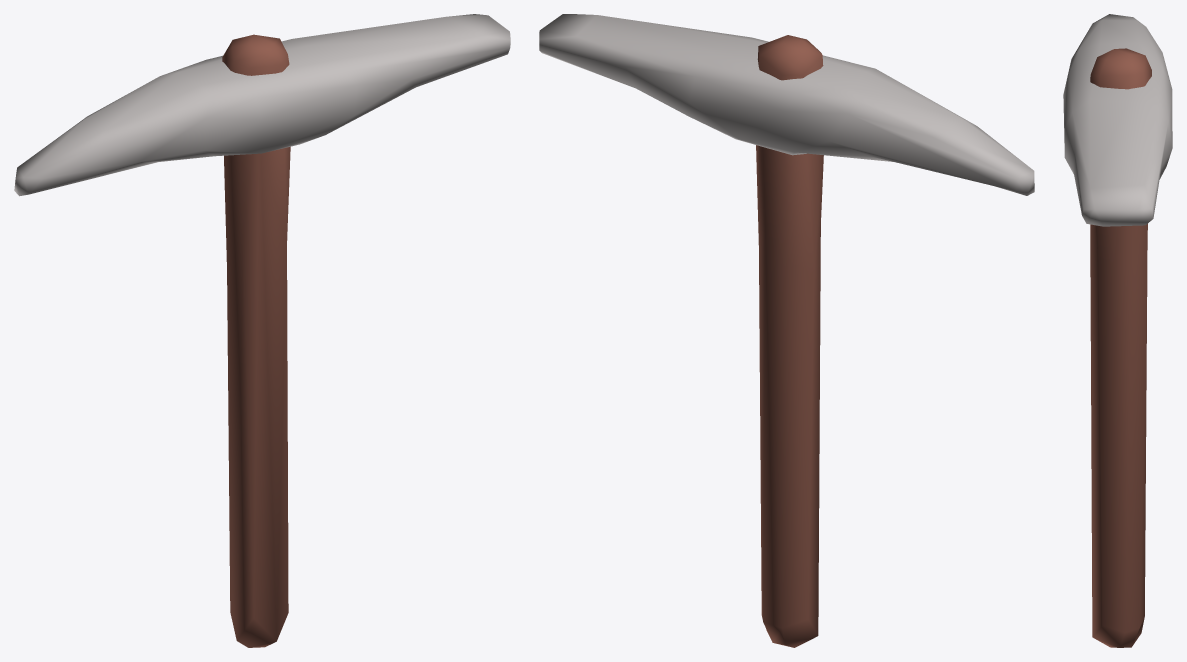
The model's file is pickaxe.fbx.
The picture shows the model from 3 angles, left to right: view 1: azimuth 30°, elevation 25°; view 2: azimuth 150°, elevation 25°; view 3: azimuth 270°, elevation 25°; orthographic projection. The views are drawn at different scales.
Visible parts, largest first — view 1: Cube.002; view 2: Cube.002; view 3: Cube.002.
Boxes of the visible parts, x1=… form: Cube.002: x1=14, y1=14, x2=510, y2=647; Cube.002: x1=539, y1=14, x2=1034, y2=647; Cube.002: x1=1063, y1=14, x2=1172, y2=647.
Bounding box in the file's own units: 1562 × 1870 × 312.
